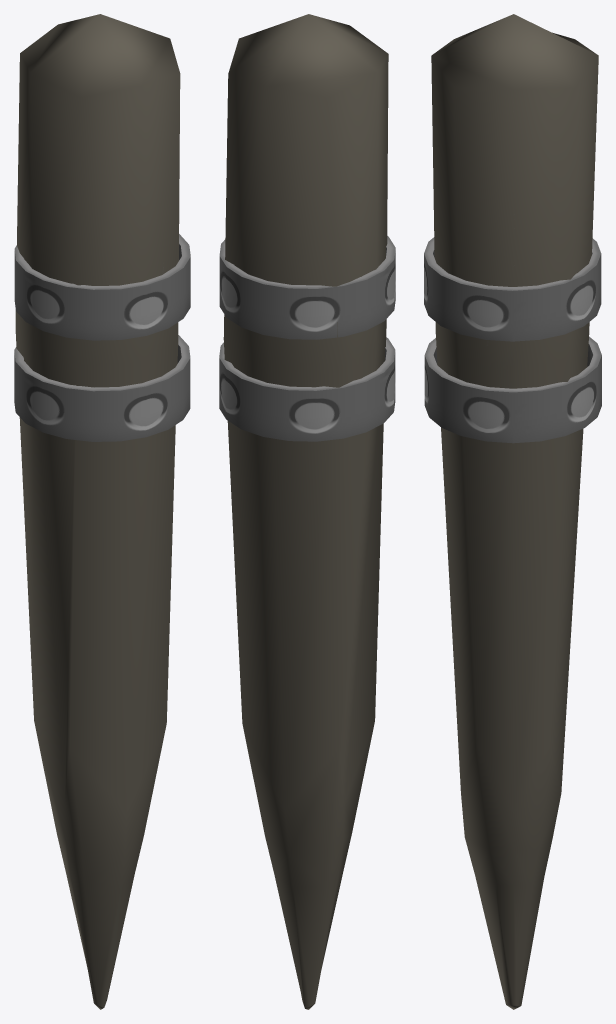
The model's file is taimatu 1.fbx.
The picture shows the model from 3 angles, left to right: view 1: azimuth 30°, elevation 25°; view 2: azimuth 150°, elevation 25°; view 3: azimuth 270°, elevation 25°; orthographic projection.
Parts seen in each view (by area): view 1: pCube1, polySurface1, polySurface2; view 2: pCube1, polySurface1, polySurface2; view 3: pCube1, polySurface1, polySurface2.
Part boxes in pixels (left/top/right/bottom): pCube1: left=15, top=14, right=180, bottom=1009; polySurface1: left=14, top=335, right=190, bottom=441; polySurface2: left=14, top=234, right=190, bottom=340; pCube1: left=223, top=14, right=388, bottom=1009; polySurface1: left=219, top=337, right=395, bottom=441; polySurface2: left=219, top=236, right=395, bottom=339; pCube1: left=431, top=14, right=598, bottom=1009; polySurface1: left=424, top=336, right=601, bottom=443; polySurface2: left=424, top=237, right=601, bottom=341.
Size of the model in its own units: 7.53 by 46.67 by 7.56.
